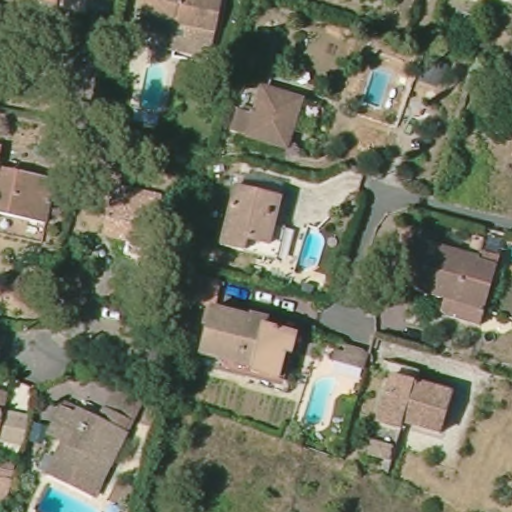pool: (134, 59, 171, 138), (27, 476, 105, 512), (300, 367, 340, 435), (292, 220, 328, 275), (362, 65, 393, 115)
